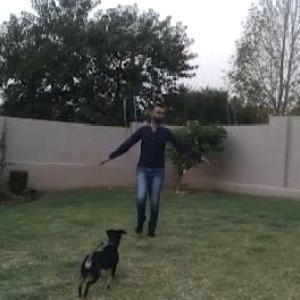land: (93, 97, 234, 267)
